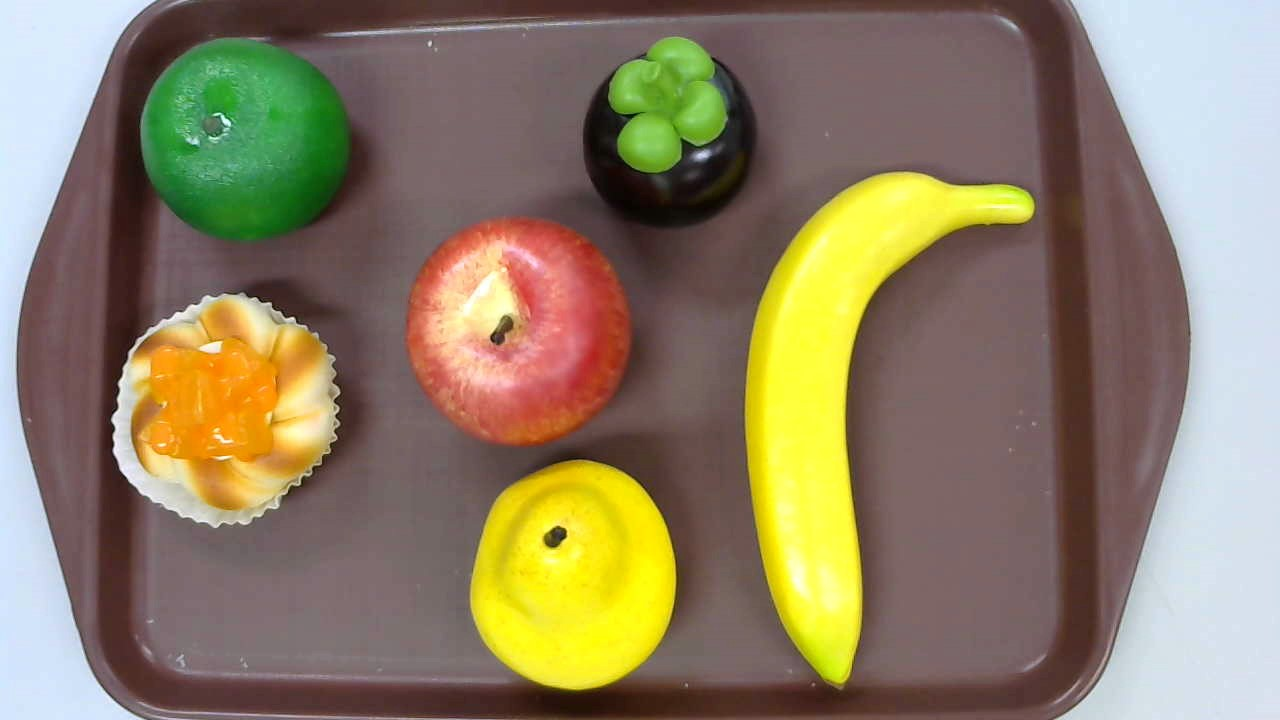banana: (742, 172, 1035, 691)
green orange: (140, 37, 349, 241)
mango tower: (110, 293, 341, 528)
mangosteen: (582, 36, 758, 226)
red apple: (405, 213, 632, 447)
yellow pear: (470, 459, 676, 691)
